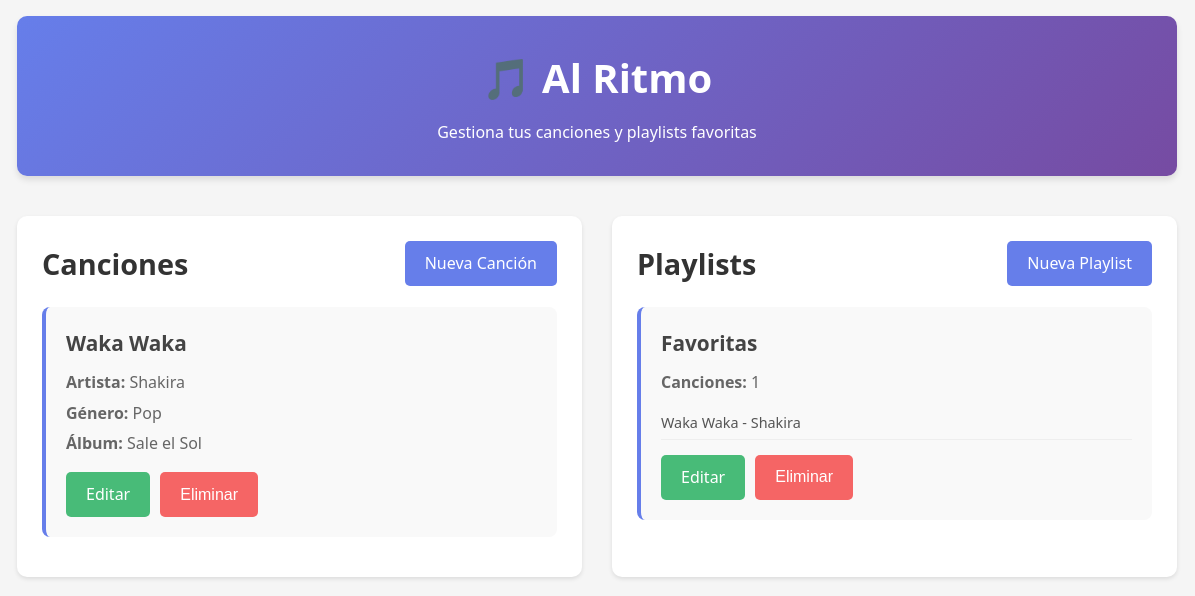
Home › elimina tras confirmar y recarga
The width and height of the screenshot is (1195, 596).
Click the button with aria-label "Eliminar Waka Waka" at x=209, y=494, box x1=160 y1=472 x2=258 y2=517
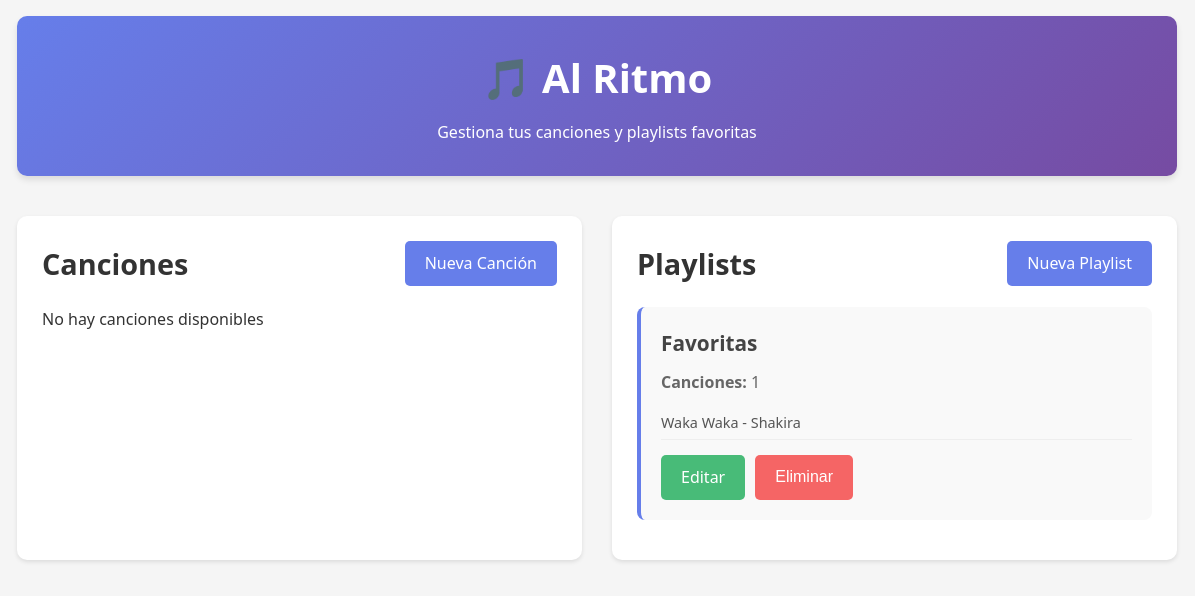
Expected: the text "No hay canciones disponibles" is shown, x1=42 y1=308 x2=264 y2=330
